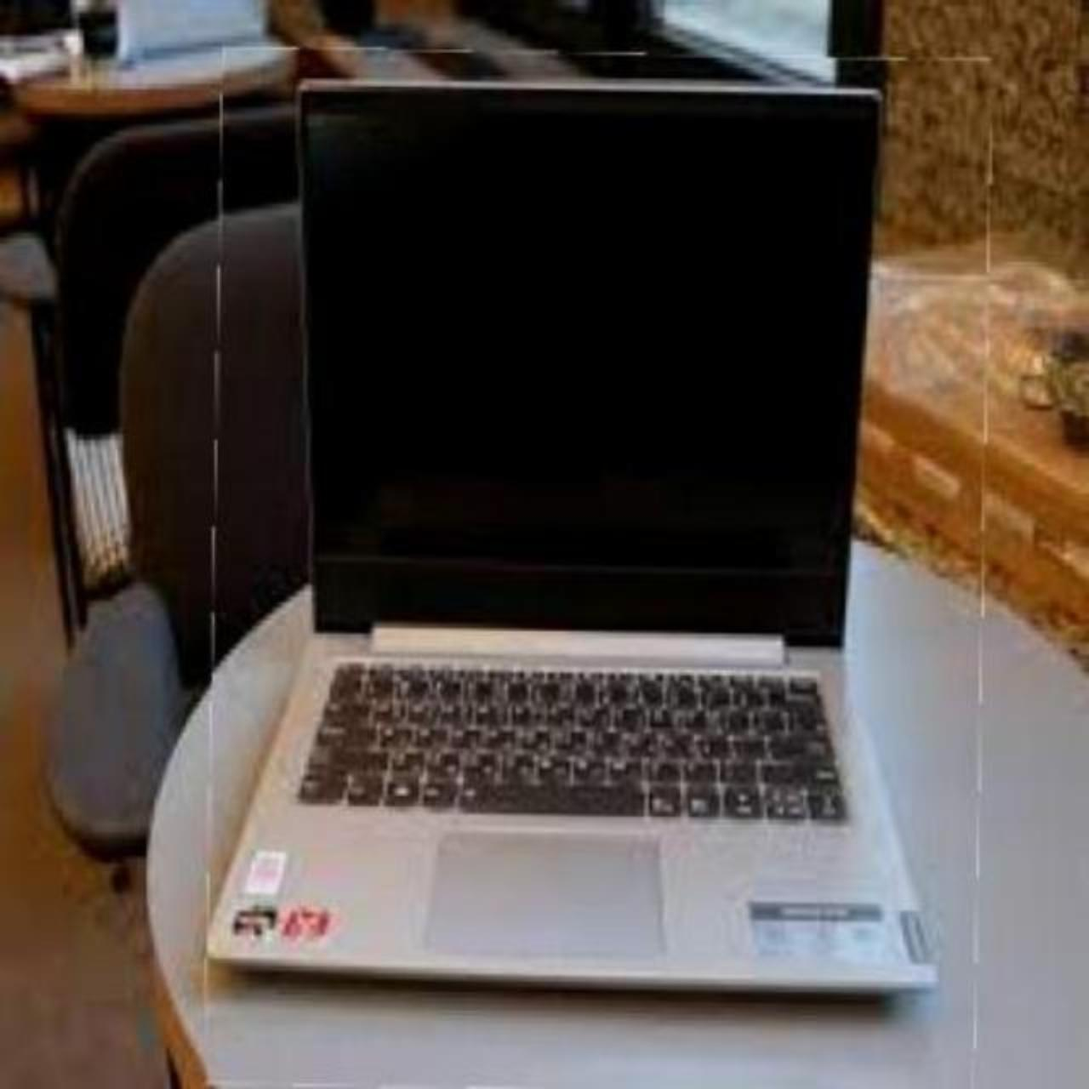laptop: (209, 51, 985, 1089)
